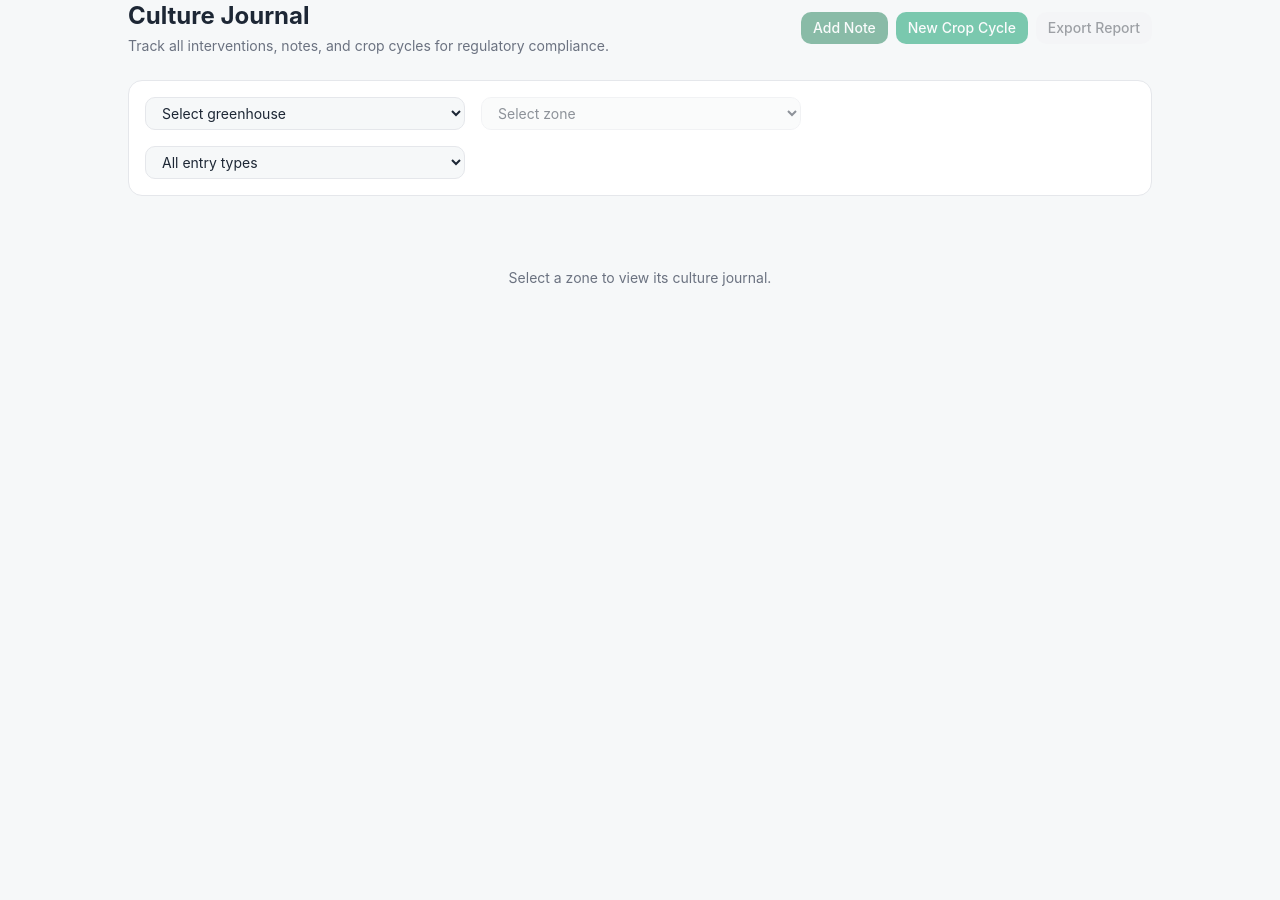
Test: CultureJournal page › opens the Add Note modal when button is clicked
The width and height of the screenshot is (1280, 900).
Step 1. Select "Greenhouse Alpha" in the 1st dropdown → (305, 114), box [145, 97, 465, 130]
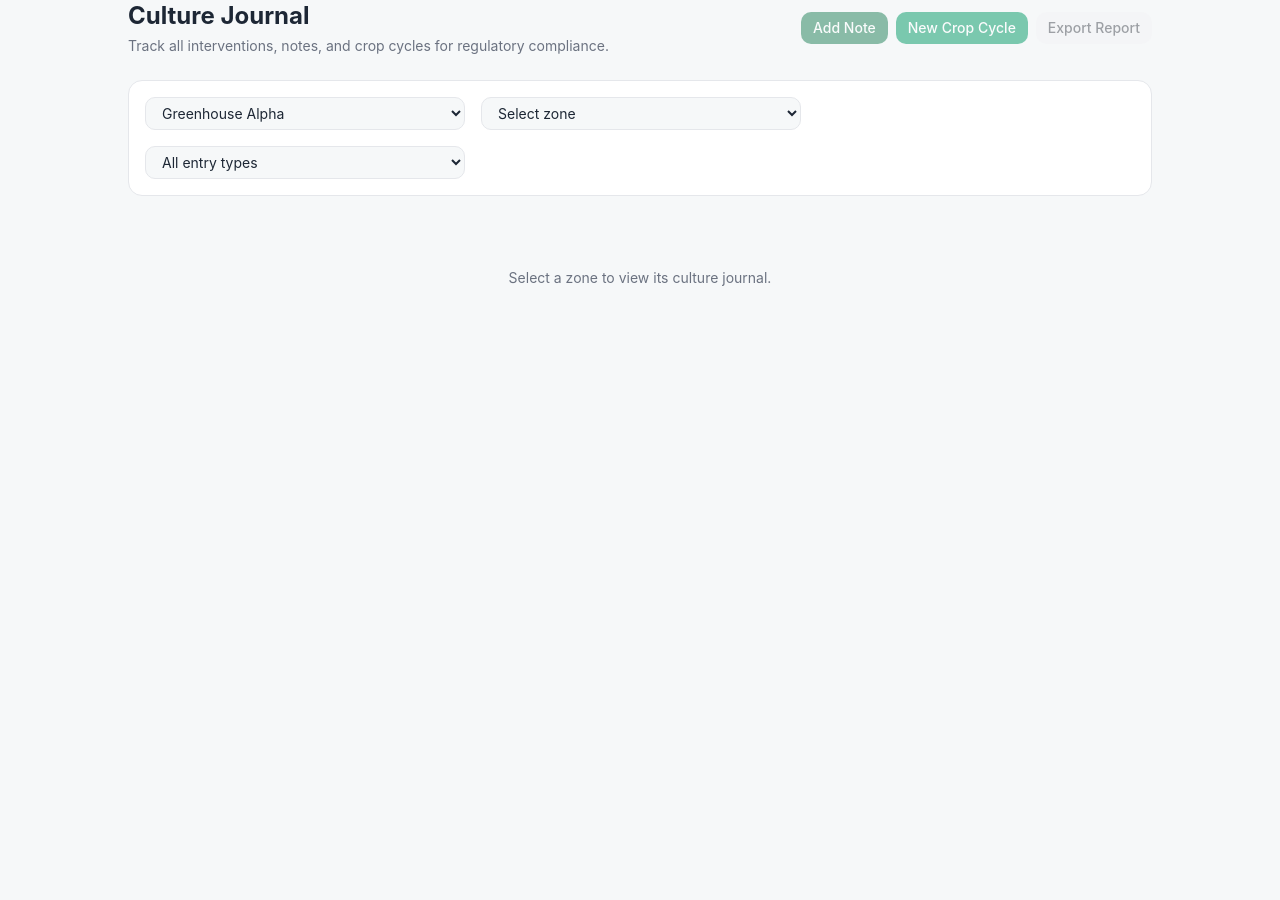
Step 2. Select "Zone Tomato" in the 2nd dropdown → (641, 114), box [481, 97, 801, 130]
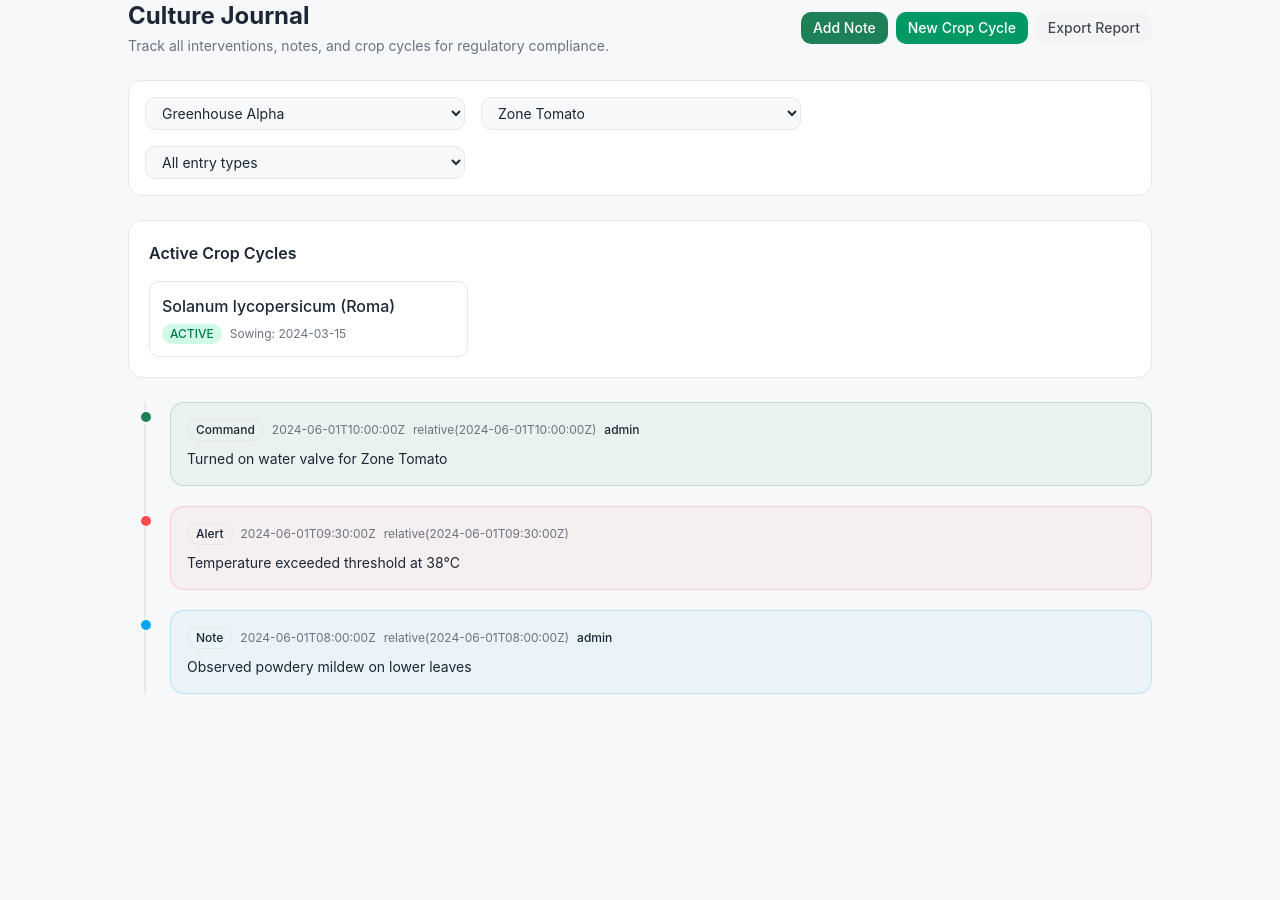
Expected: the text "Turned on water valve for Zone Tomato" is shown, [187, 450, 448, 467]
Click Add Note button
Step 3. Click the button "Add Note" → (844, 28), box [801, 12, 888, 44]
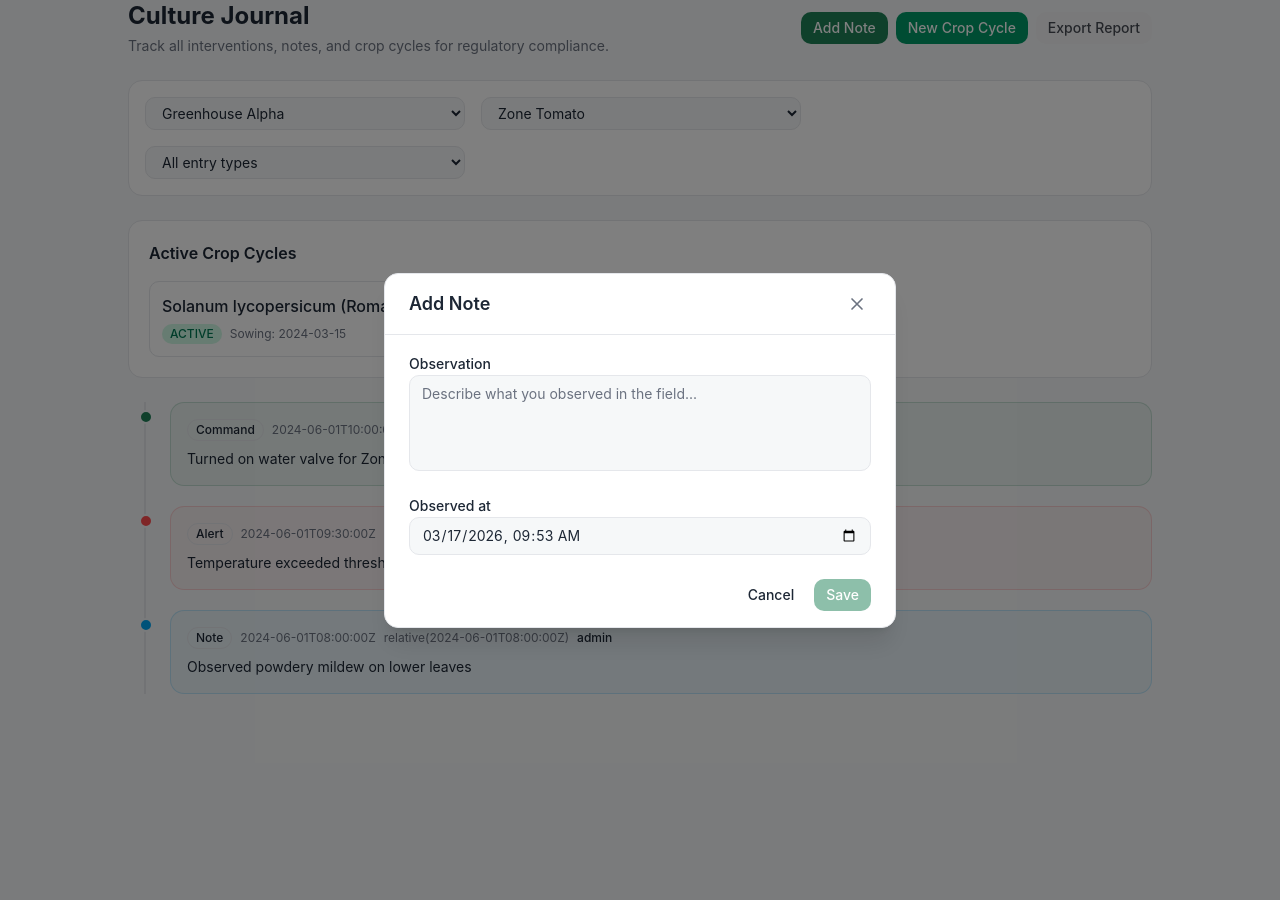
Expected: the text "Observation" is shown, [409, 354, 491, 372]
Expected: the text "Observed at" is shown, [409, 496, 491, 514]
Expected: the text box with placeholder "Describe what you observed in the field..." is shown, [409, 374, 871, 470]
